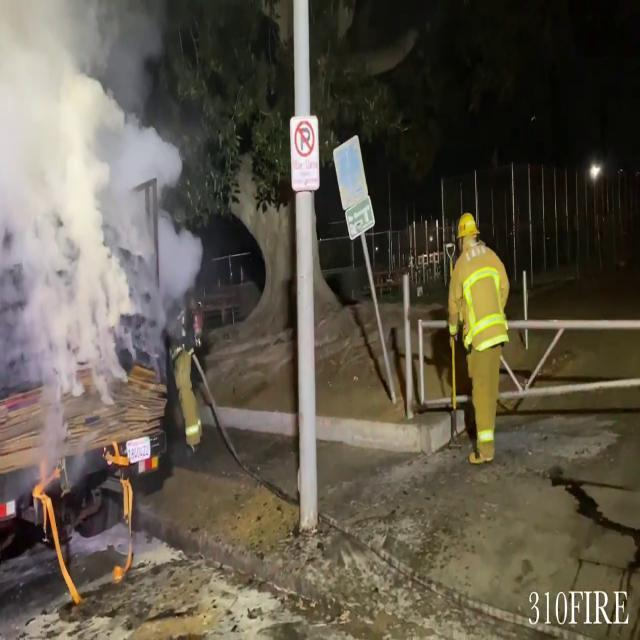Smoke: (0, 0, 202, 456)
